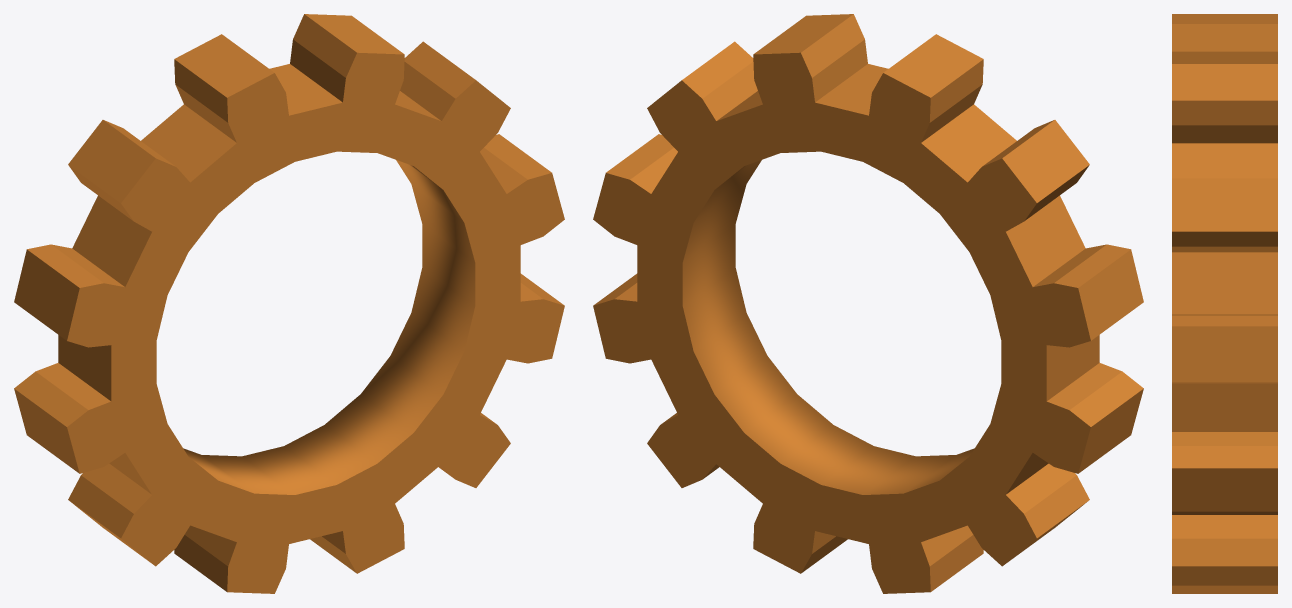
The model's file is Item_Cog_Fantasy_2.fbx.
The picture shows the model from 3 angles, left to right: view 1: azimuth 30°, elevation 25°; view 2: azimuth 150°, elevation 25°; view 3: azimuth 270°, elevation 25°; orthographic projection.
Visible parts, largest first — view 1: Item Cog Fantasy 2; view 2: Item Cog Fantasy 2; view 3: Item Cog Fantasy 2.
Part boxes in pixels (<box>): Item Cog Fantasy 2: <box>14,14,564,593</box>; Item Cog Fantasy 2: <box>593,14,1143,593</box>; Item Cog Fantasy 2: <box>1172,14,1277,593</box>.
Size of the model in its own units: 217 by 217 by 40.
